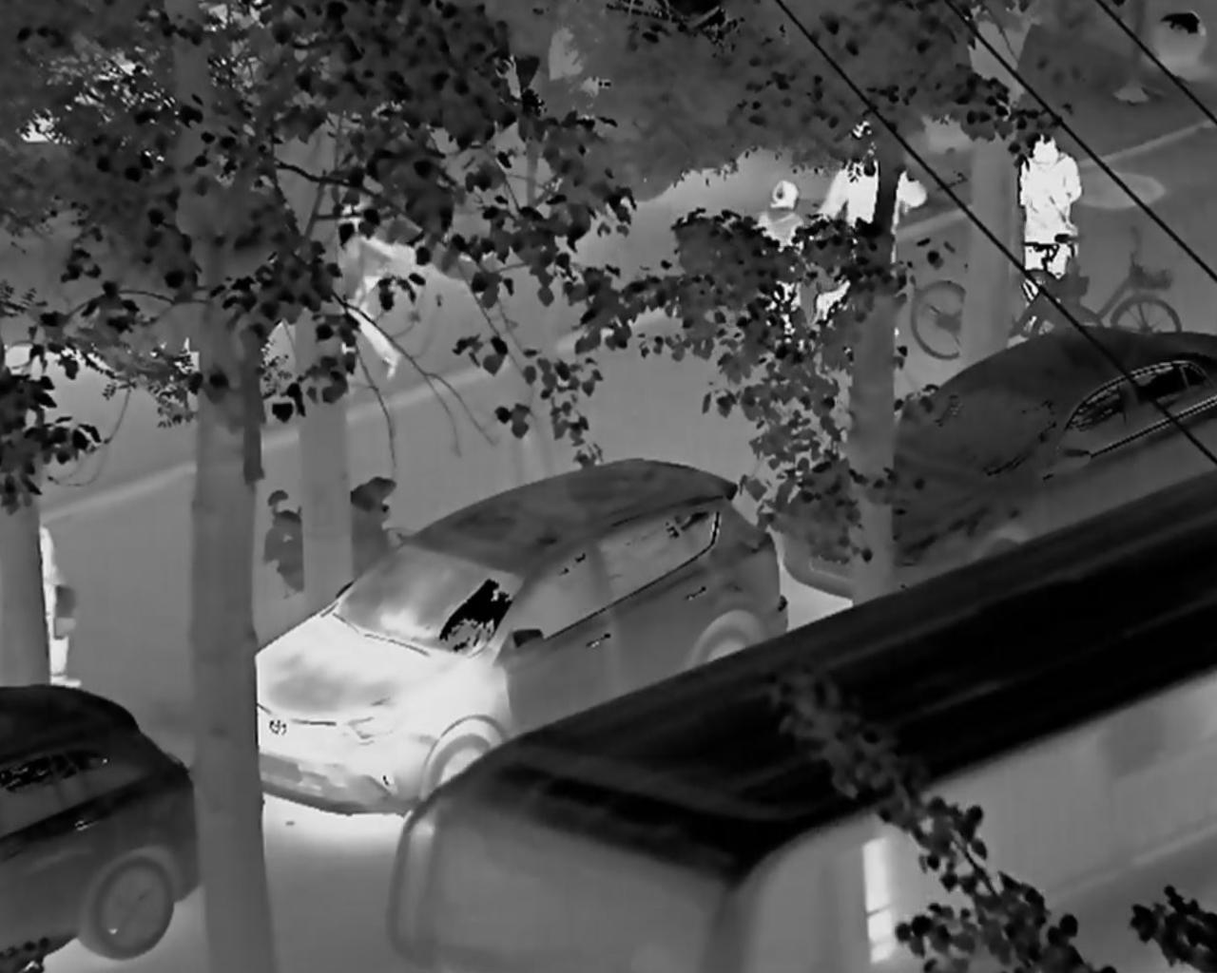person: (833, 123, 928, 371), (738, 180, 823, 346), (1020, 135, 1087, 304)
